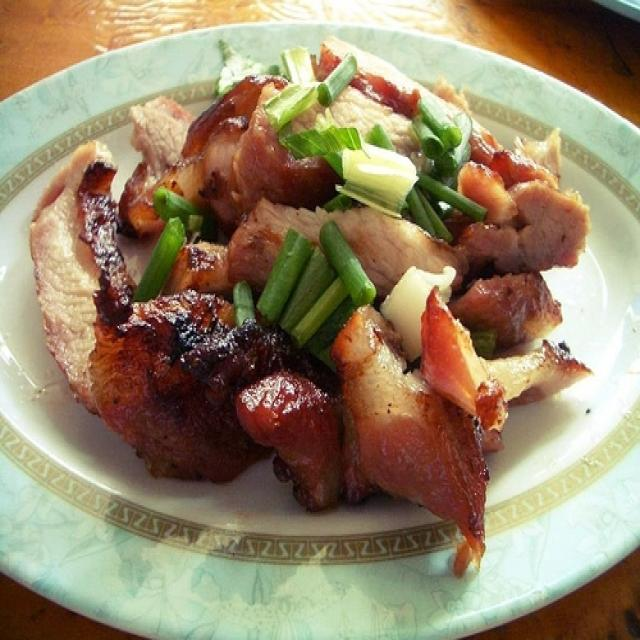猪肉菜式: (50, 48, 573, 565)
